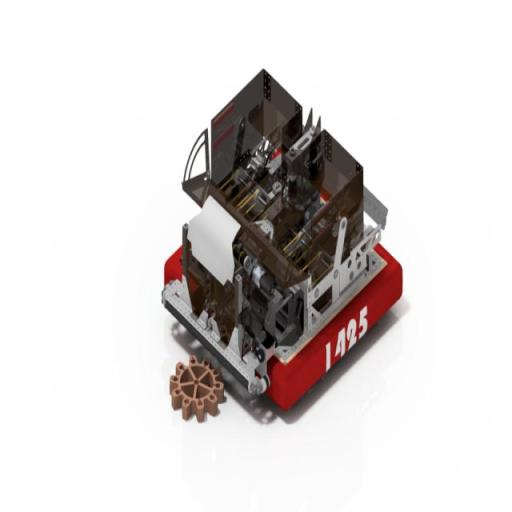robot: (142, 48, 413, 430)
